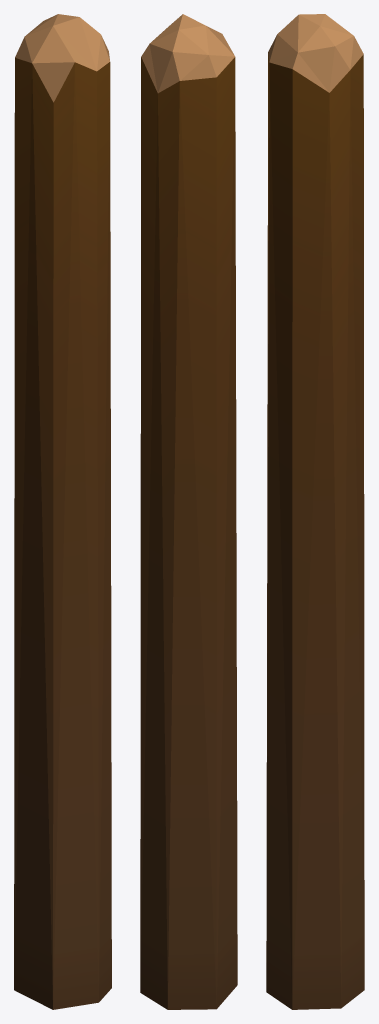
The model's file is FenceBig_03.fbx.
3 renders of one model, left to right at view 1: azimuth 90°, elevation 25°; view 2: azimuth 210°, elevation 25°; view 3: azimuth 270°, elevation 25°, orthographic.
Parts seen in each view (by area): view 1: FenceBig_03; view 2: FenceBig_03; view 3: FenceBig_03.
Part boxes in pixels (x1,y1,x2,y2): FenceBig_03: [14, 14, 111, 1009]; FenceBig_03: [140, 14, 237, 1009]; FenceBig_03: [266, 14, 364, 1009].
Bounding box in the file's own units: 30.02 × 341 × 31.08.
